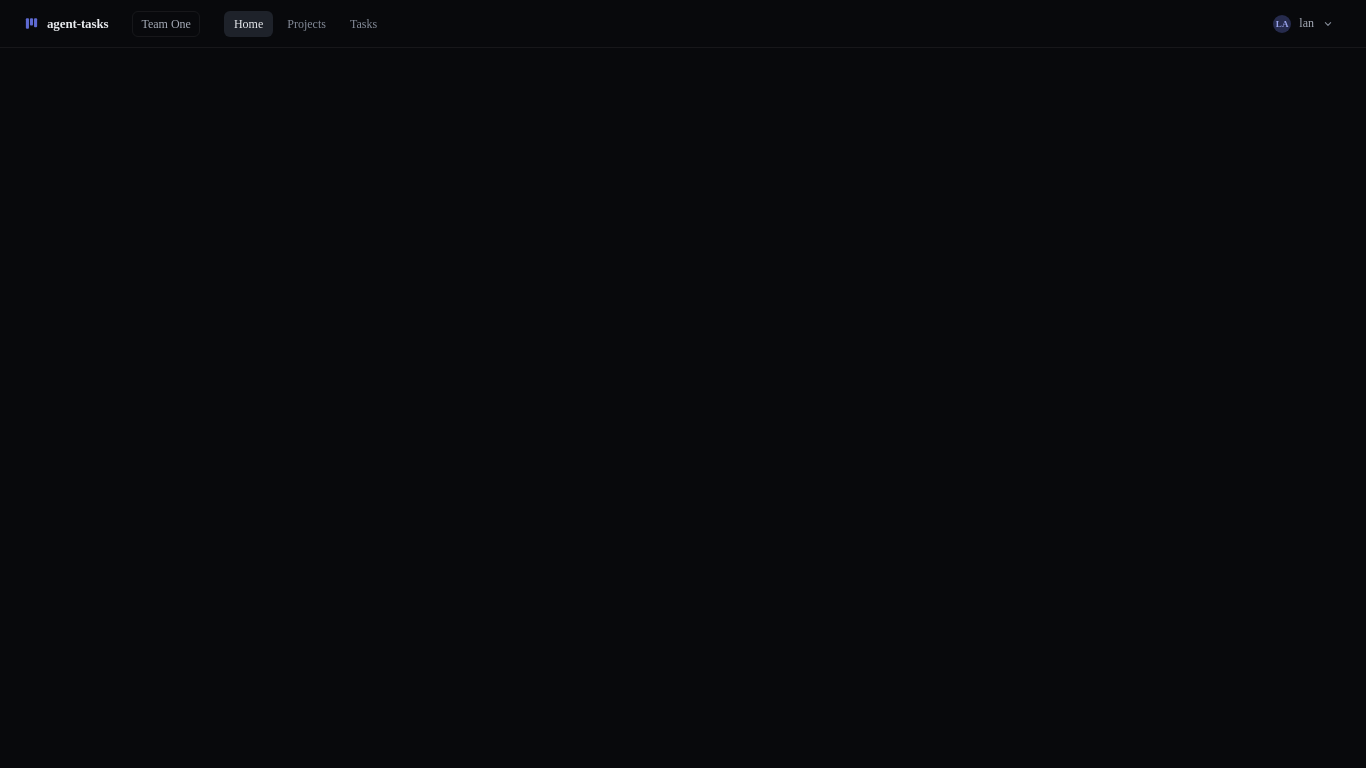
it: New team dialog › opens from the account menu as a modal dialog named New team
Click the button with aria-label "Account menu for lan": (1304, 24) [1265,8,1342,38]
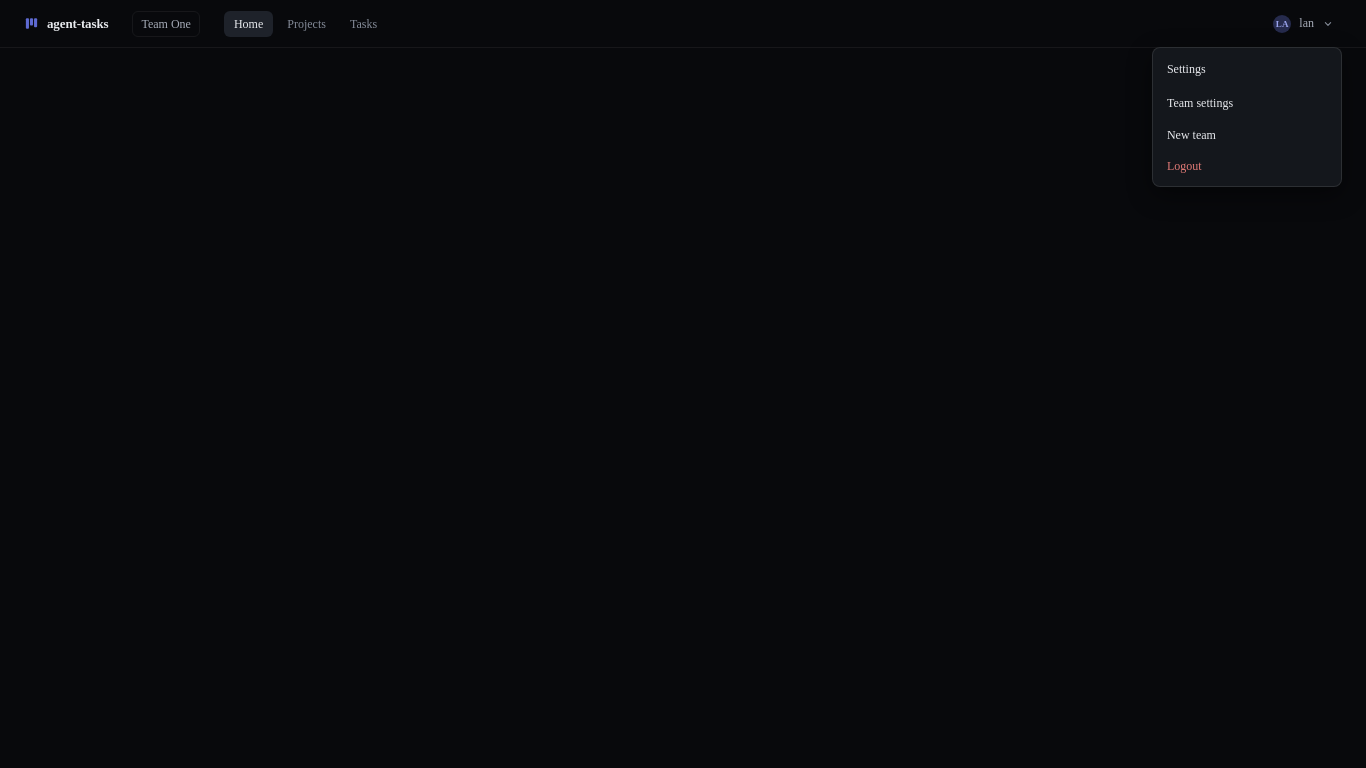
Click the menu item "New team": (1247, 135) [1157,120,1337,150]
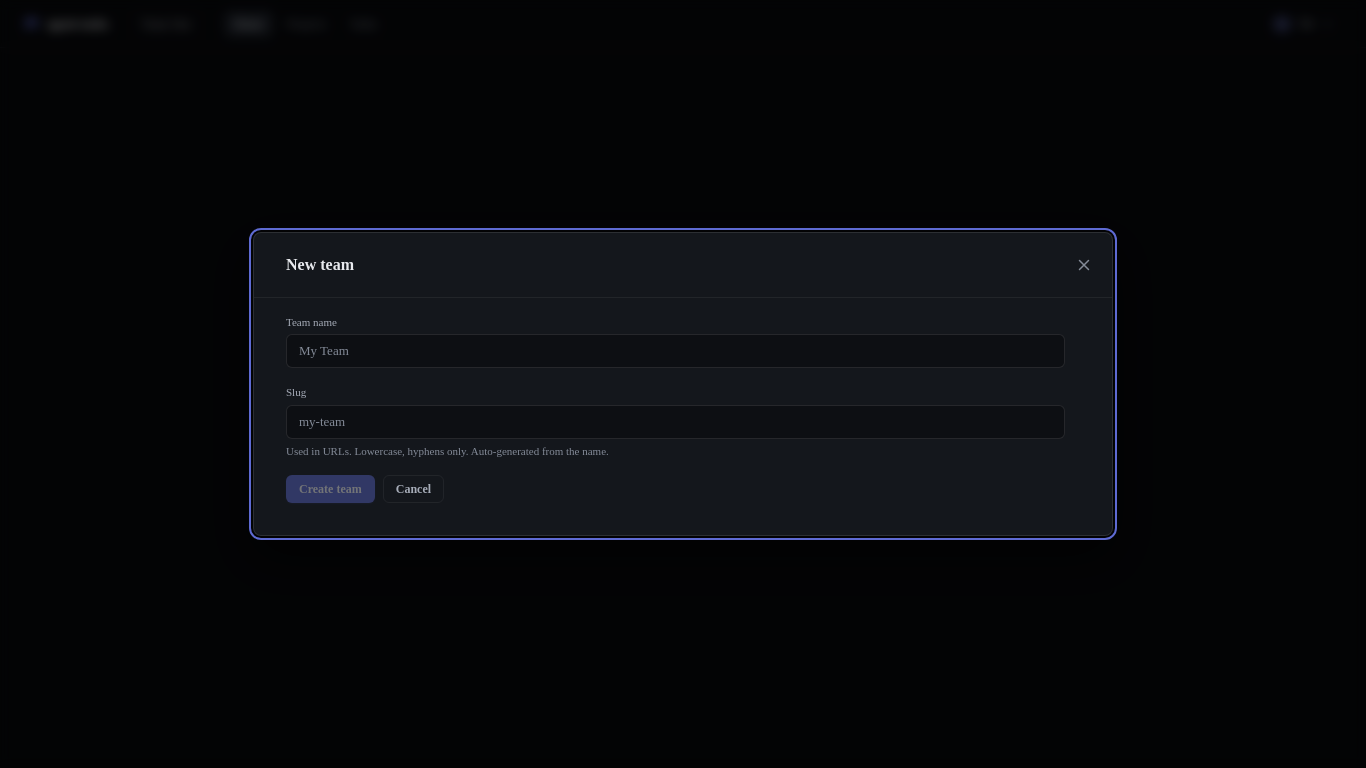
Expected: the header is shown, [0,0,1365,48]
Now the field labelled "Team name" is shown, box [286,334,1065,368]
Now the button "Create team" is shown, box [286,475,375,503]
